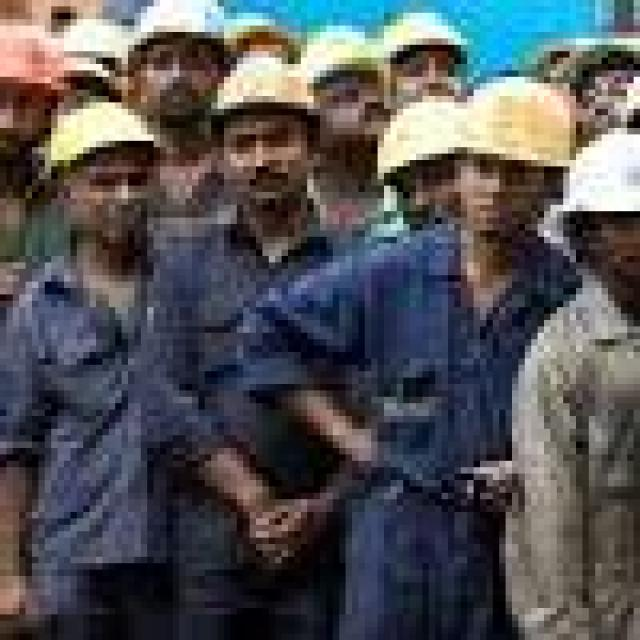Safety-Helmet: (365, 70, 595, 198), (7, 90, 180, 192), (198, 39, 333, 134), (544, 115, 640, 243), (109, 0, 243, 58), (378, 6, 473, 70)
